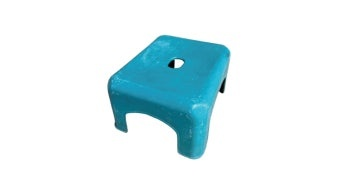plastic: (108, 34, 231, 158)
